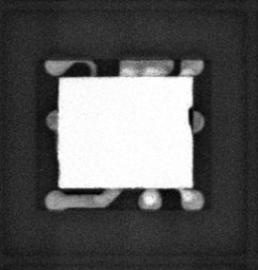DIE_BROKEN: (186, 103, 196, 131)
